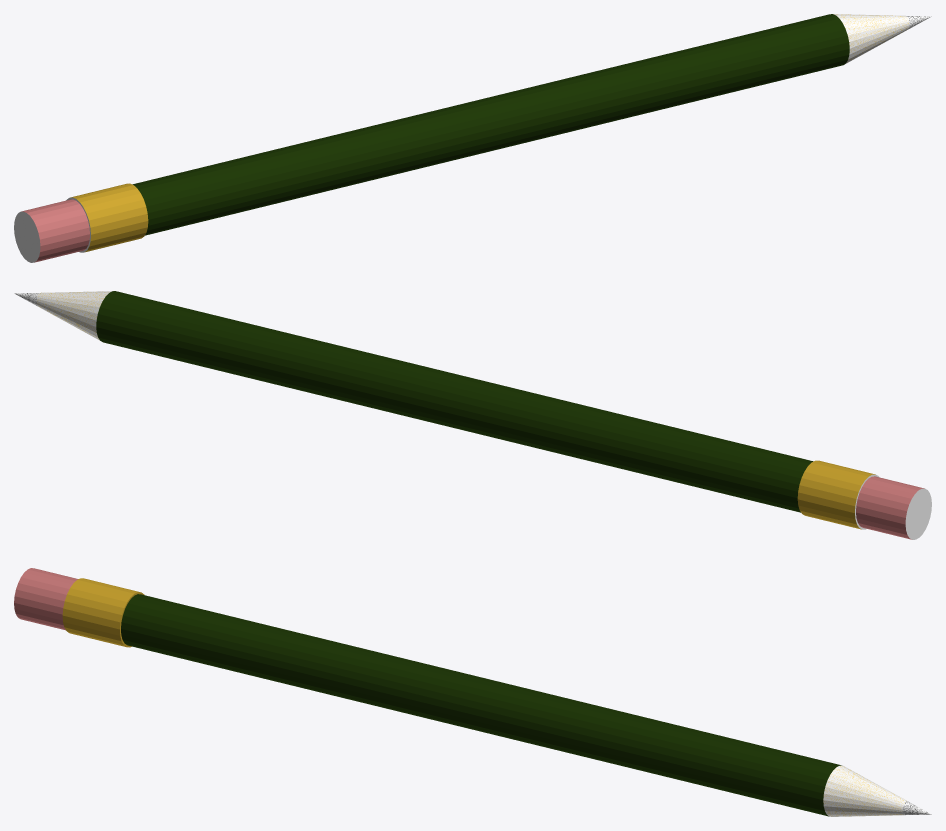
3 views of the same model, one above another, from view 1: azimuth 30°, elevation 25°; view 2: azimuth 150°, elevation 25°; view 3: azimuth 330°, elevation 25° (orthographic).
Visible parts, largest first — view 1: pencil; view 2: pencil; view 3: pencil.
Boxes of the visible parts, x1,y1,x2,y2 form: pencil: (14, 14, 931, 262); pencil: (14, 291, 931, 539); pencil: (14, 568, 931, 816).
Size of the model in its own units: 148 by 8.06 by 8.06.
